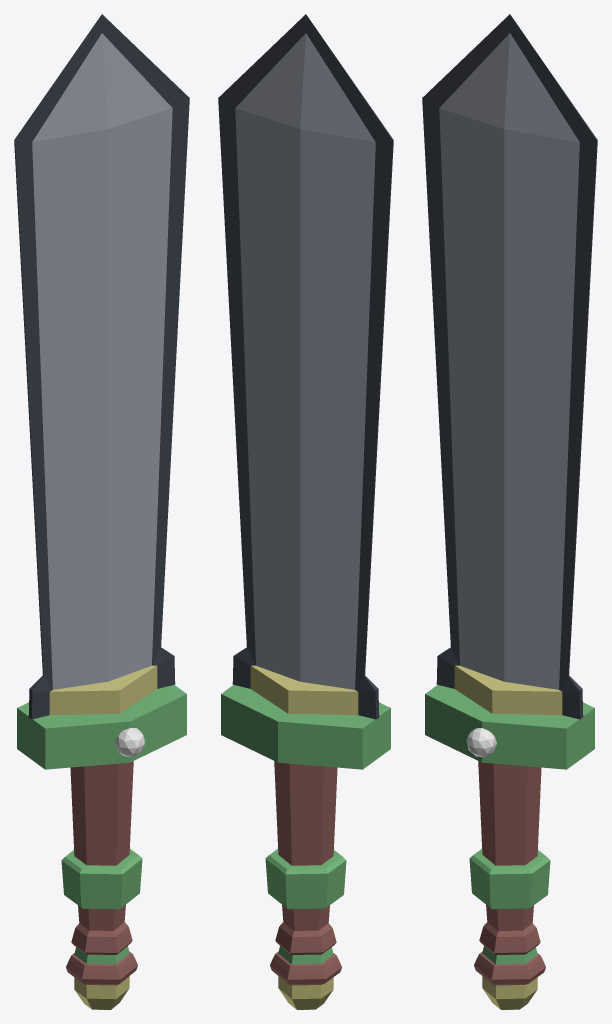
Rendered from Sword.fbx.
3 renders of one model, left to right at view 1: azimuth 30°, elevation 25°; view 2: azimuth 150°, elevation 25°; view 3: azimuth 330°, elevation 25°, orthographic.
Visible parts, largest first — view 1: Cylinder; view 2: Cylinder; view 3: Cylinder.
Part boxes in pixels (left/top/right/bottom): Cylinder: left=14, top=14, right=189, bottom=1009; Cylinder: left=218, top=14, right=393, bottom=1009; Cylinder: left=422, top=14, right=597, bottom=1009.
Bounding box in the file's own units: 359 × 1949 × 228.
